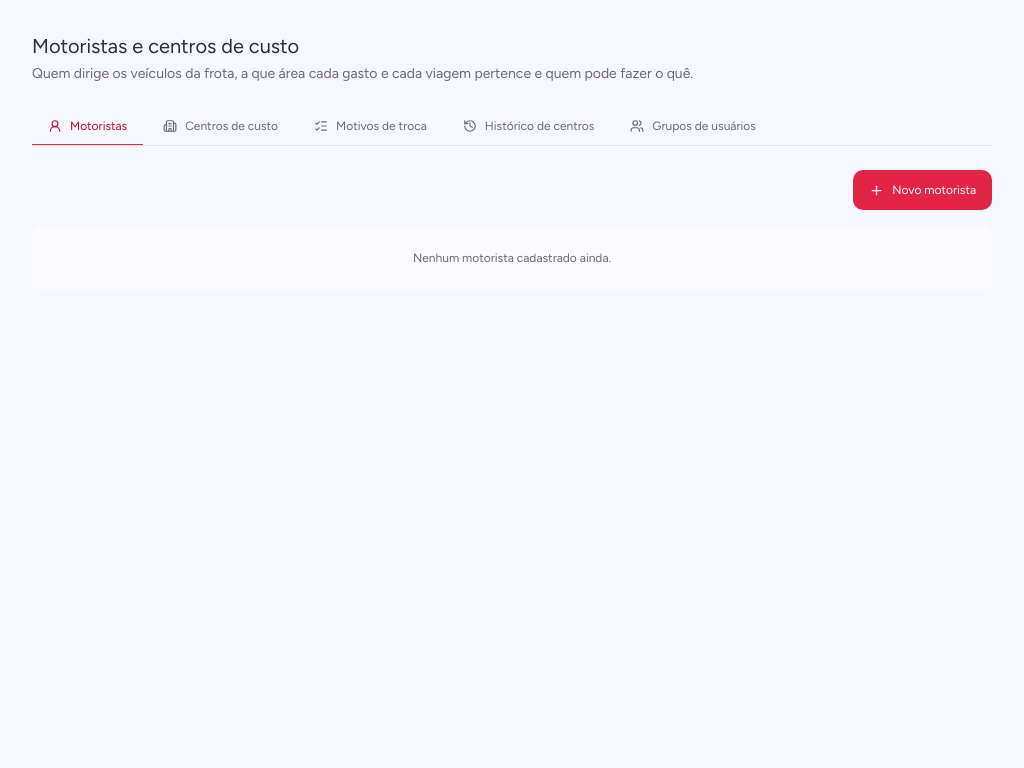
Test: Cadastros: centros de custo › mostra o aviso do servidor quando o centro tem histórico e não pode ser apagado
Click the tab "Centros de custo": (221,127) left=147, top=108, right=294, bottom=146
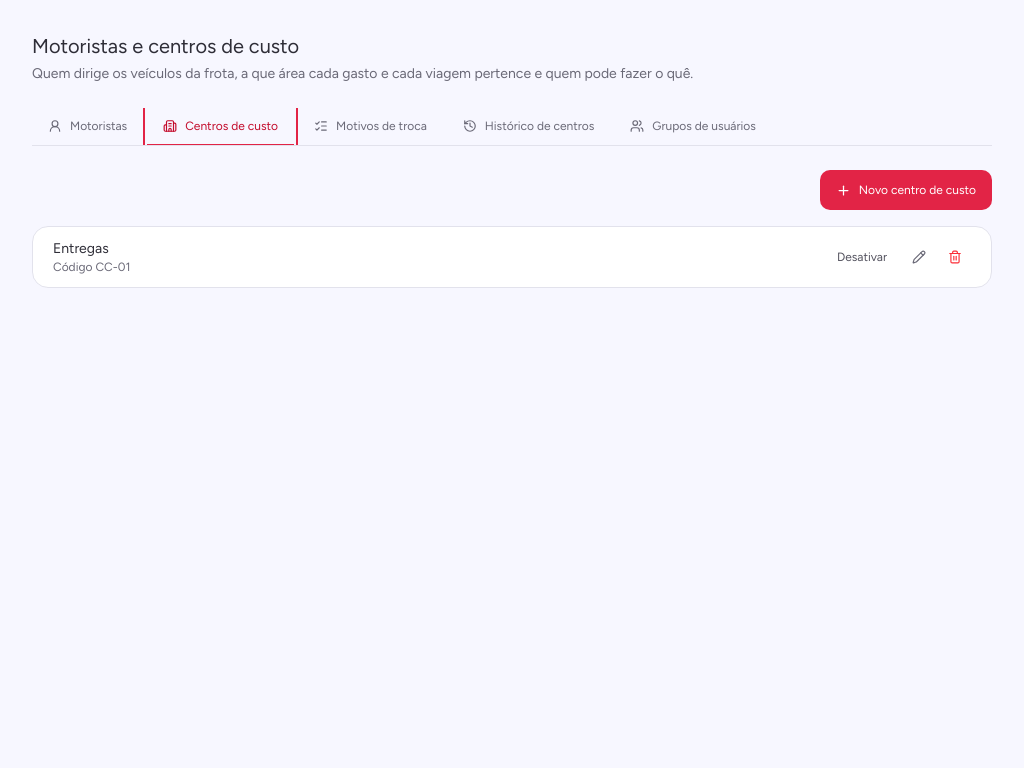
Click the button named "Remover Entregas": (955,257) left=939, top=241, right=971, bottom=273
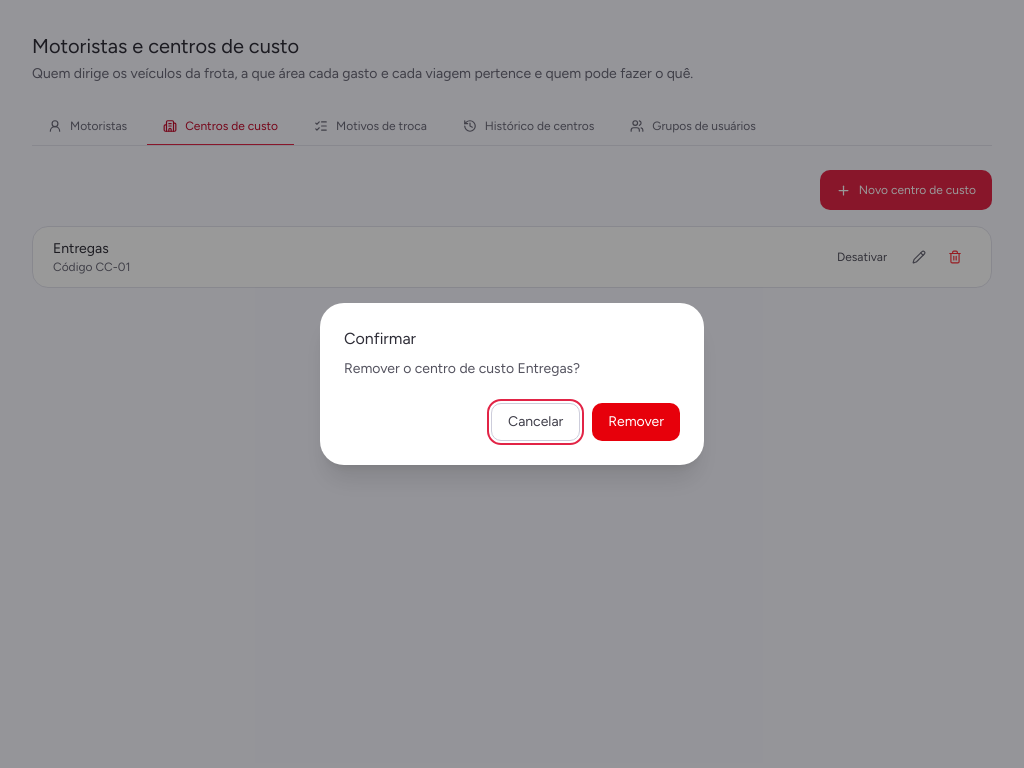
Click the button "Remover": (636,422) left=592, top=403, right=680, bottom=441
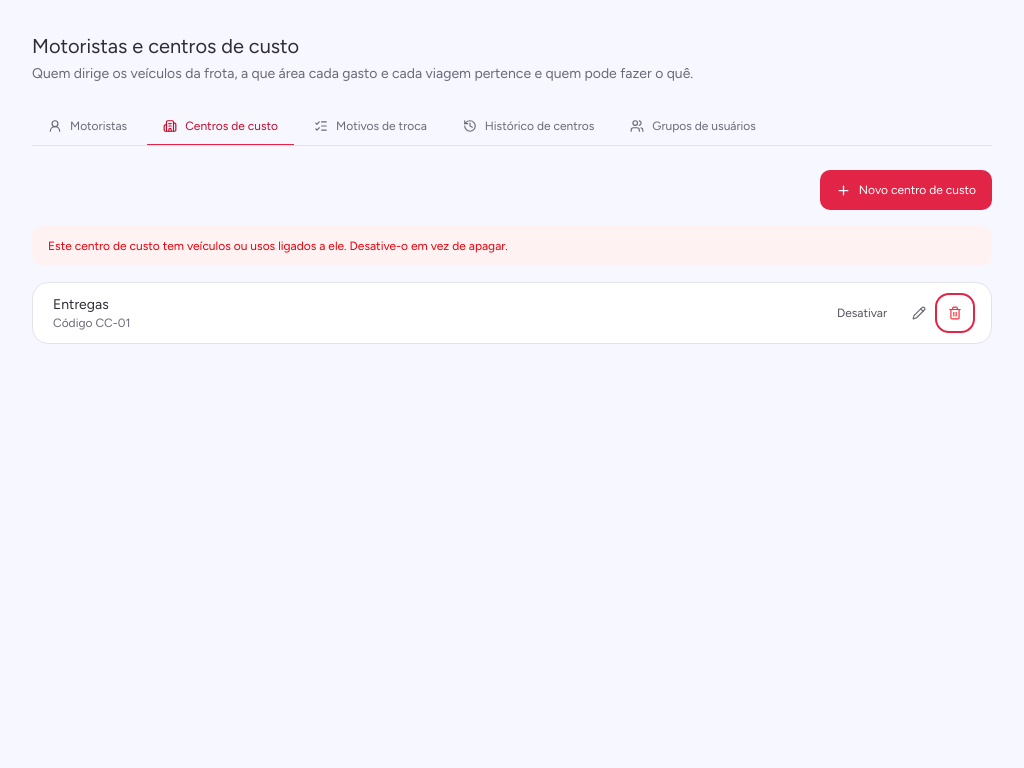
expect the message shows "Desative-o em vez de apagar": met, box left=48, top=239, right=508, bottom=253
